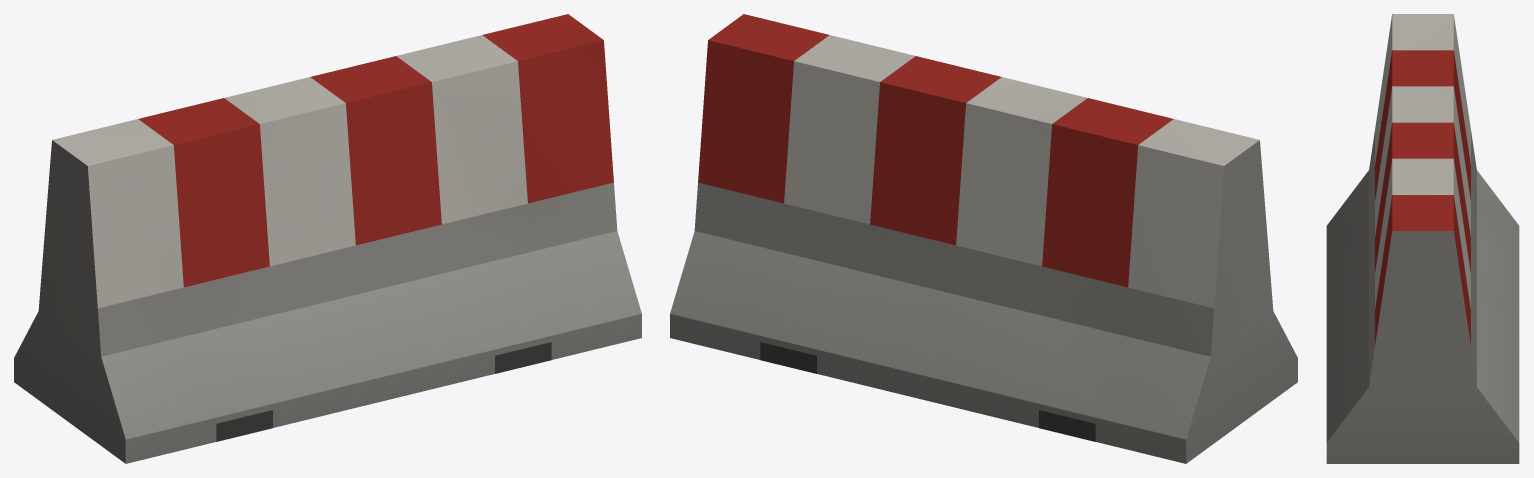
The model's file is barrier.concrete.hazard.glb.
3 views of the same model, side by side, from view 1: azimuth 30°, elevation 25°; view 2: azimuth 150°, elevation 25°; view 3: azimuth 270°, elevation 25° (orthographic). The views are drawn at different scales.
Visible parts, largest first — view 1: barrier_concrete_hazard; view 2: barrier_concrete_hazard; view 3: barrier_concrete_hazard.
Part boxes in pixels (box(x1,y1,x2,y2)): barrier_concrete_hazard: box(14, 14, 641, 463); barrier_concrete_hazard: box(670, 14, 1297, 463); barrier_concrete_hazard: box(1326, 14, 1519, 463).
Size of what is drawn, in the model's own units: 2 by 1 by 0.752.
